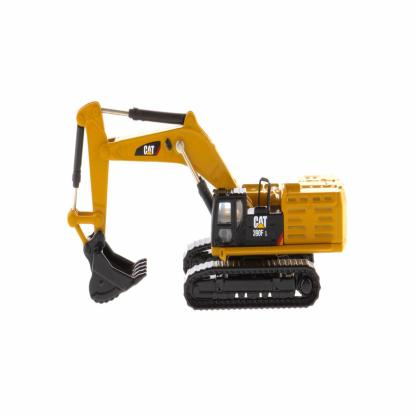excavator: (51, 78, 367, 343)
